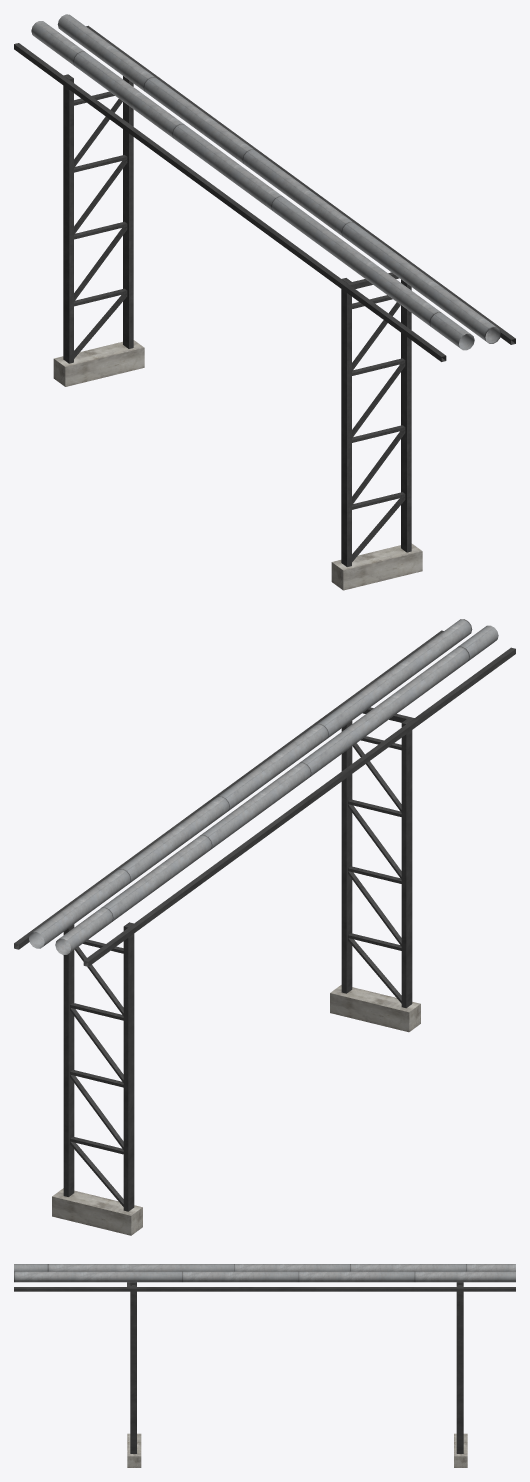
Rendered from plant-building51.glb.
3 views of the same model, one above another, from view 1: azimuth 30°, elevation 25°; view 2: azimuth 150°, elevation 25°; view 3: azimuth 270°, elevation 25° (orthographic). The views are drawn at different scales.
Visible parts, largest first — view 1: Object8935896; view 2: Object8935896; view 3: Object8935896.
Boxes of the visible parts, left/top/right/bottom form: Object8935896: left=14, top=14, right=515, bottom=590; Object8935896: left=14, top=619, right=515, bottom=1235; Object8935896: left=14, top=1264, right=515, bottom=1467.
Size of the model in its own units: 2.73 by 10.56 by 25.51.
1 material, 1 textured.
